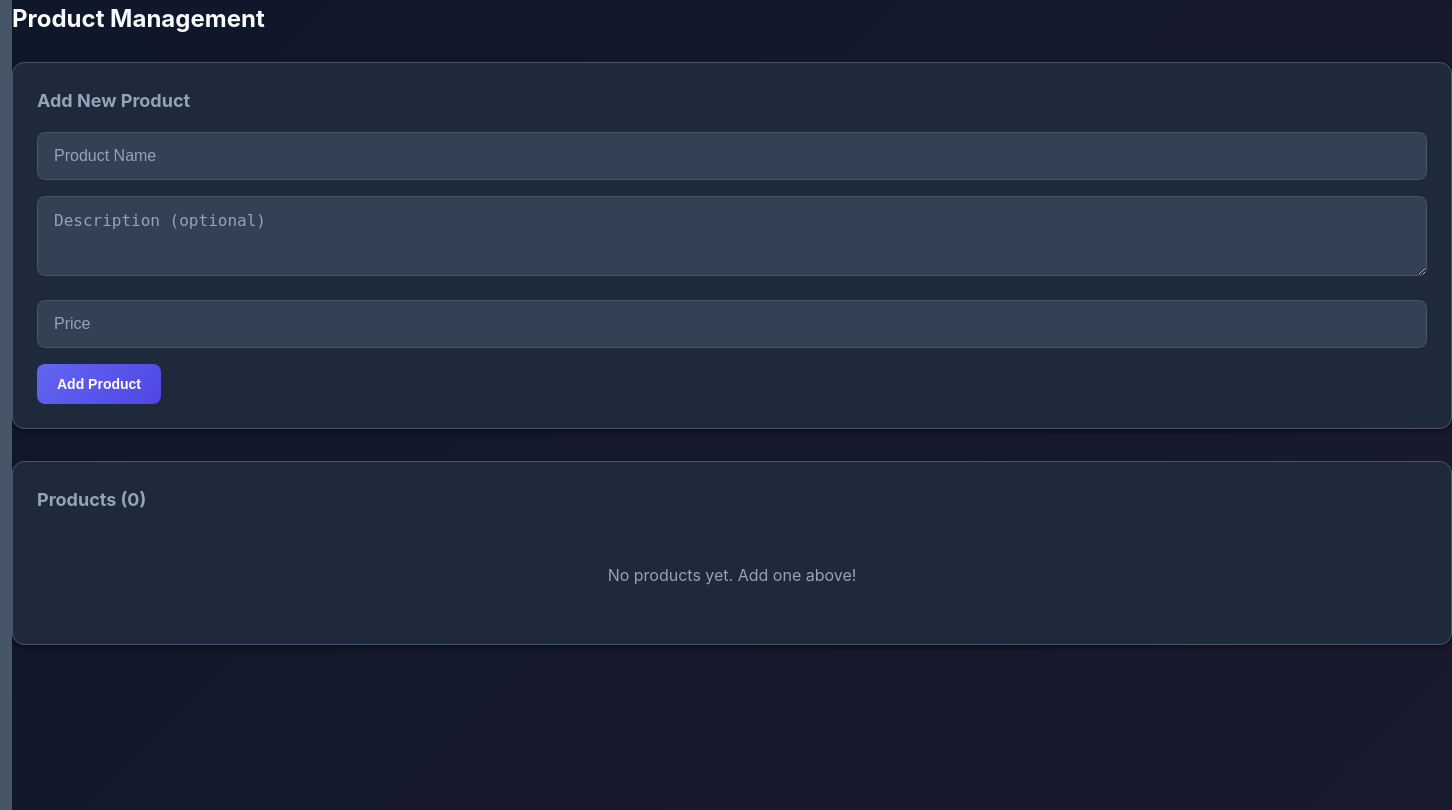
Scenario: ProductList › shows error when create fails
Expected: the heading "Add New Product" is shown, 37,90 -> 190,111
Type "Fail Item" into the field with placeholder "Product Name" at (732, 156), box 37,132 -> 1427,180
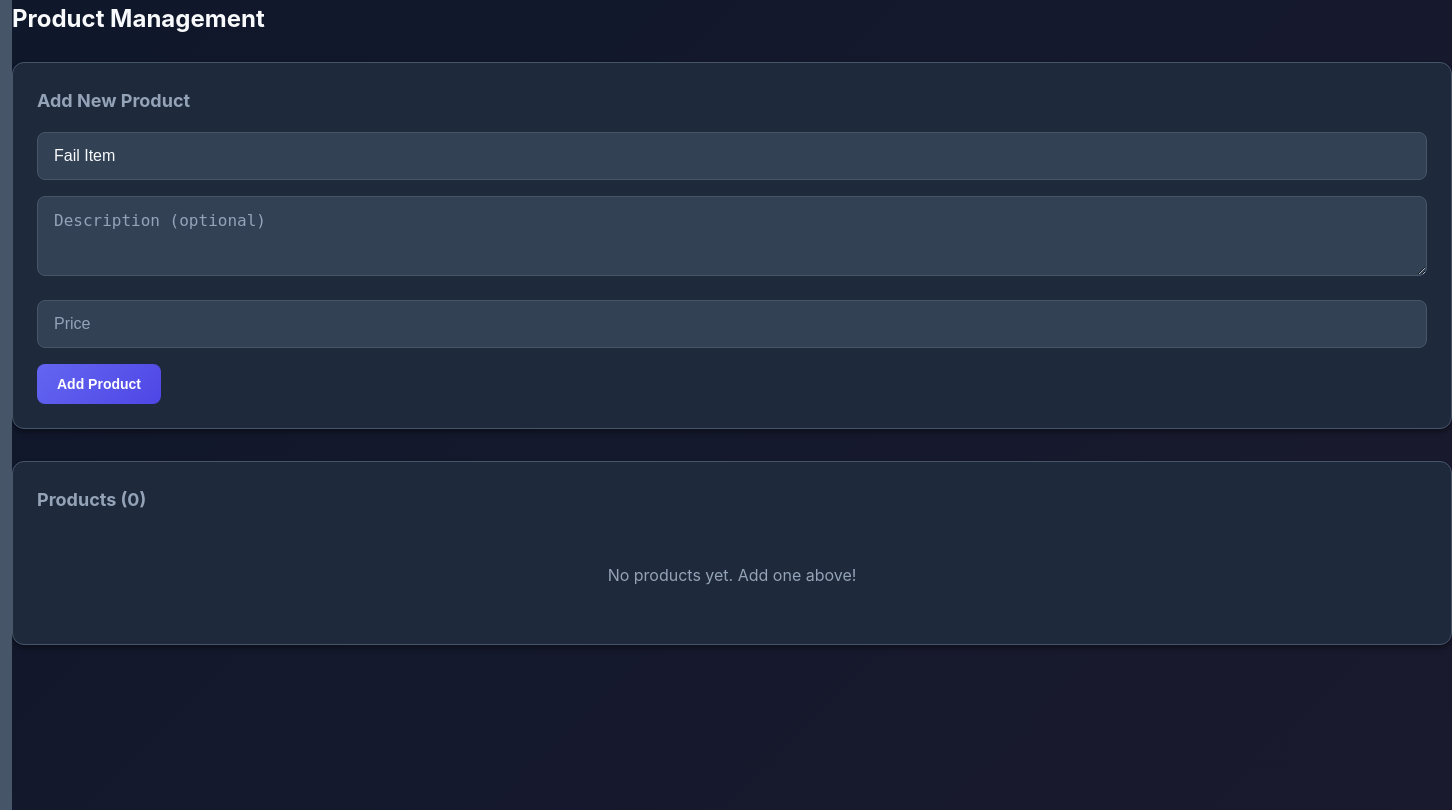
Type "1.00" into the number field with placeholder "Price" at (732, 324), box 37,300 -> 1427,348
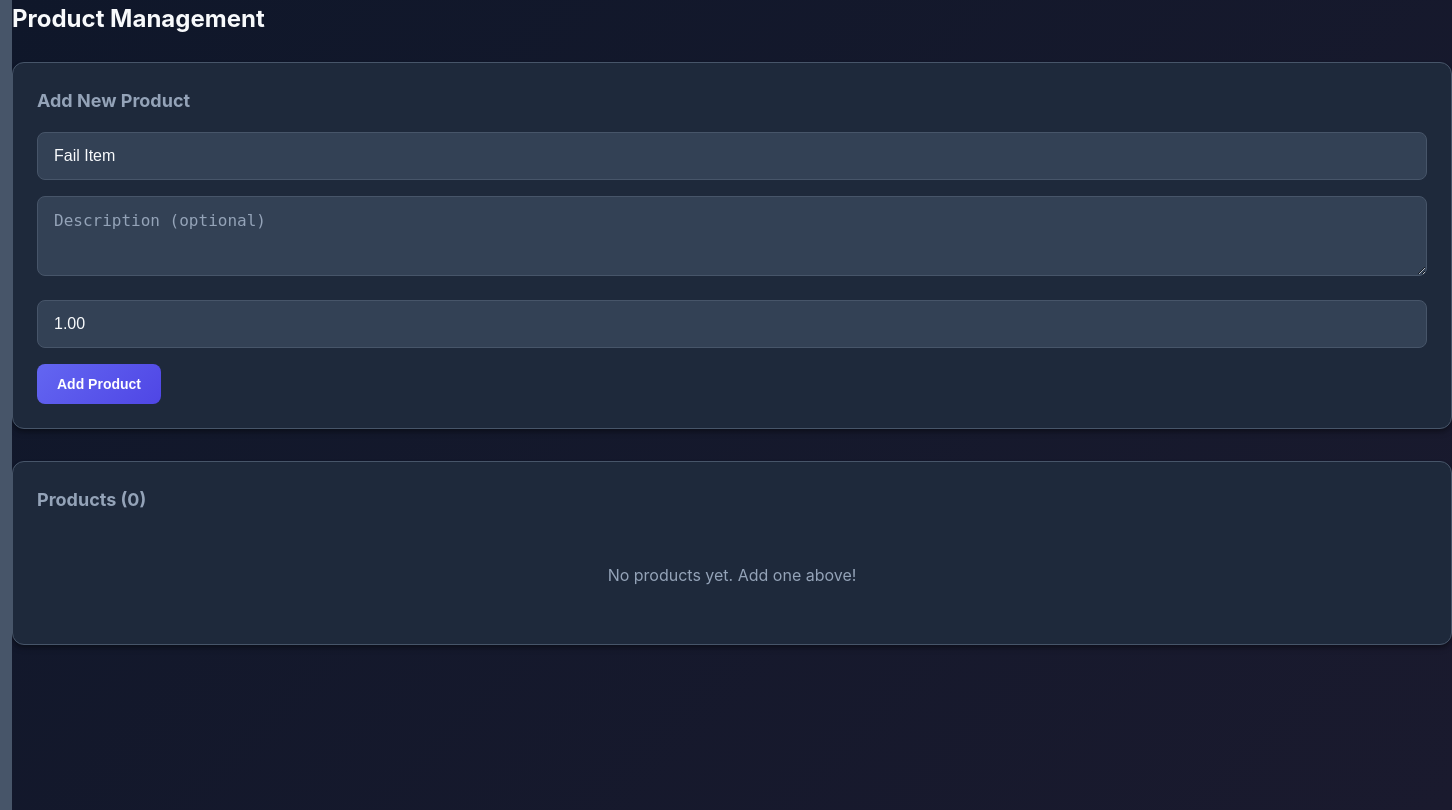
Click the button "Add Product" at (99, 384), box 37,364 -> 161,404
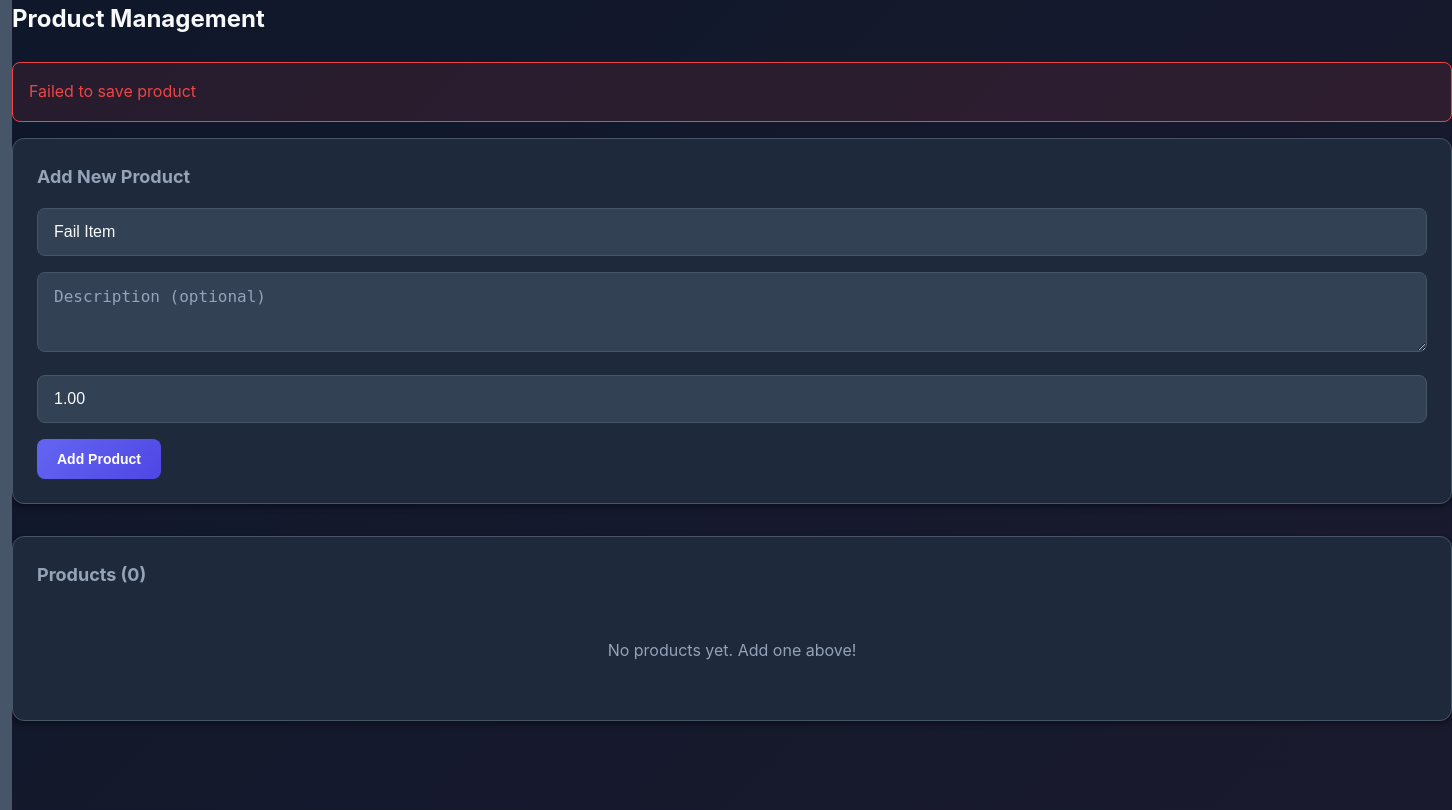
Result: the text "Failed to save product" is shown at 12,62 -> 1451,122
